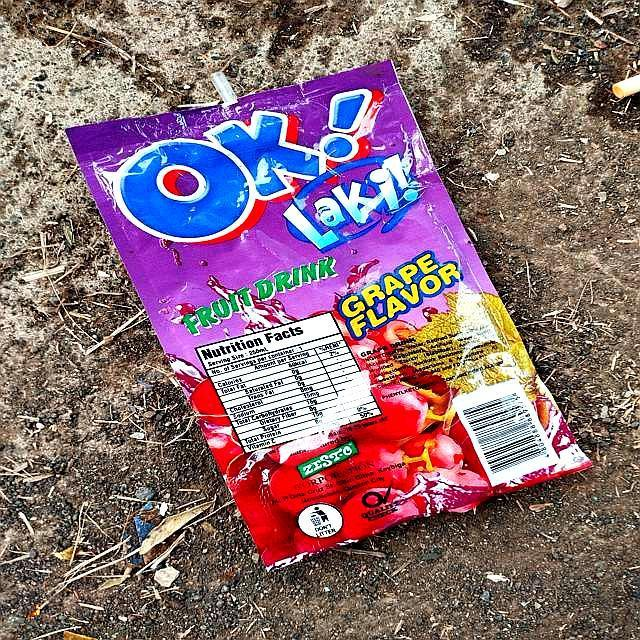Non-biodegradable: (65, 59, 594, 572)
